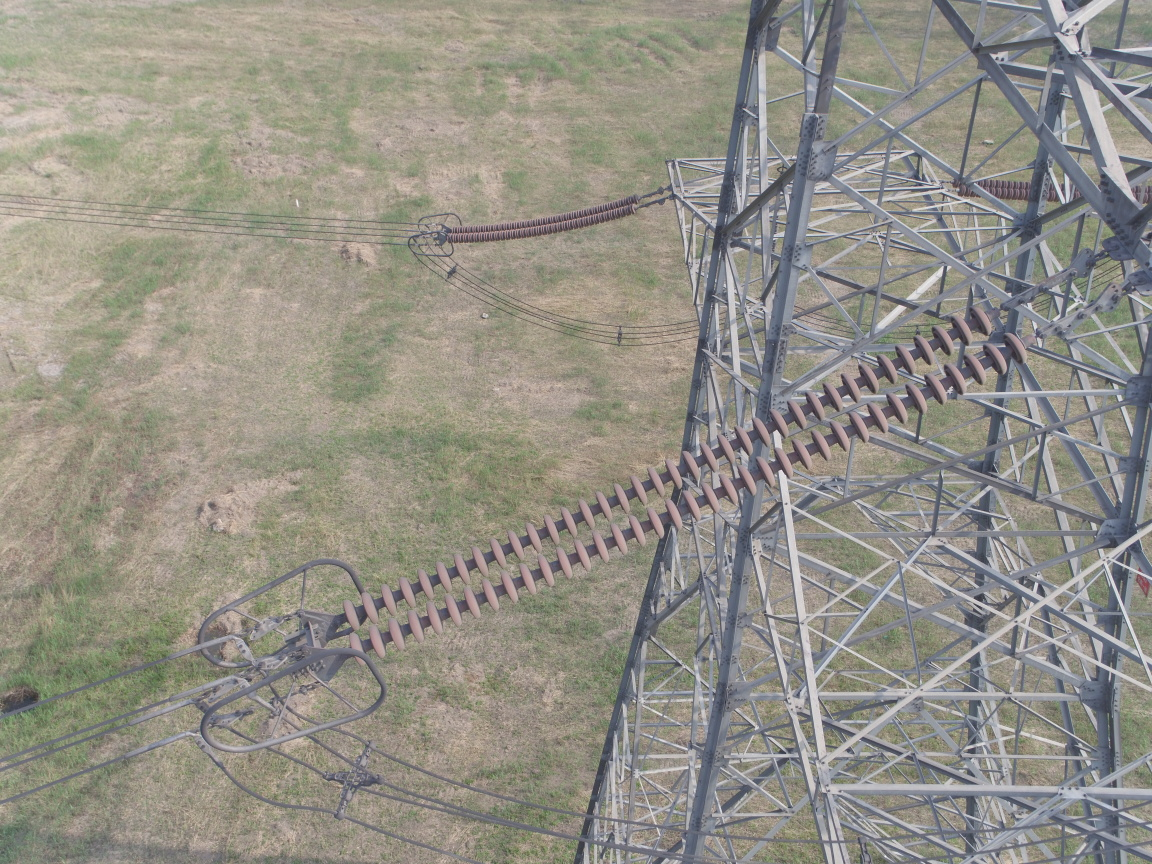insulator: (331, 288, 1059, 670), (439, 188, 652, 245)
